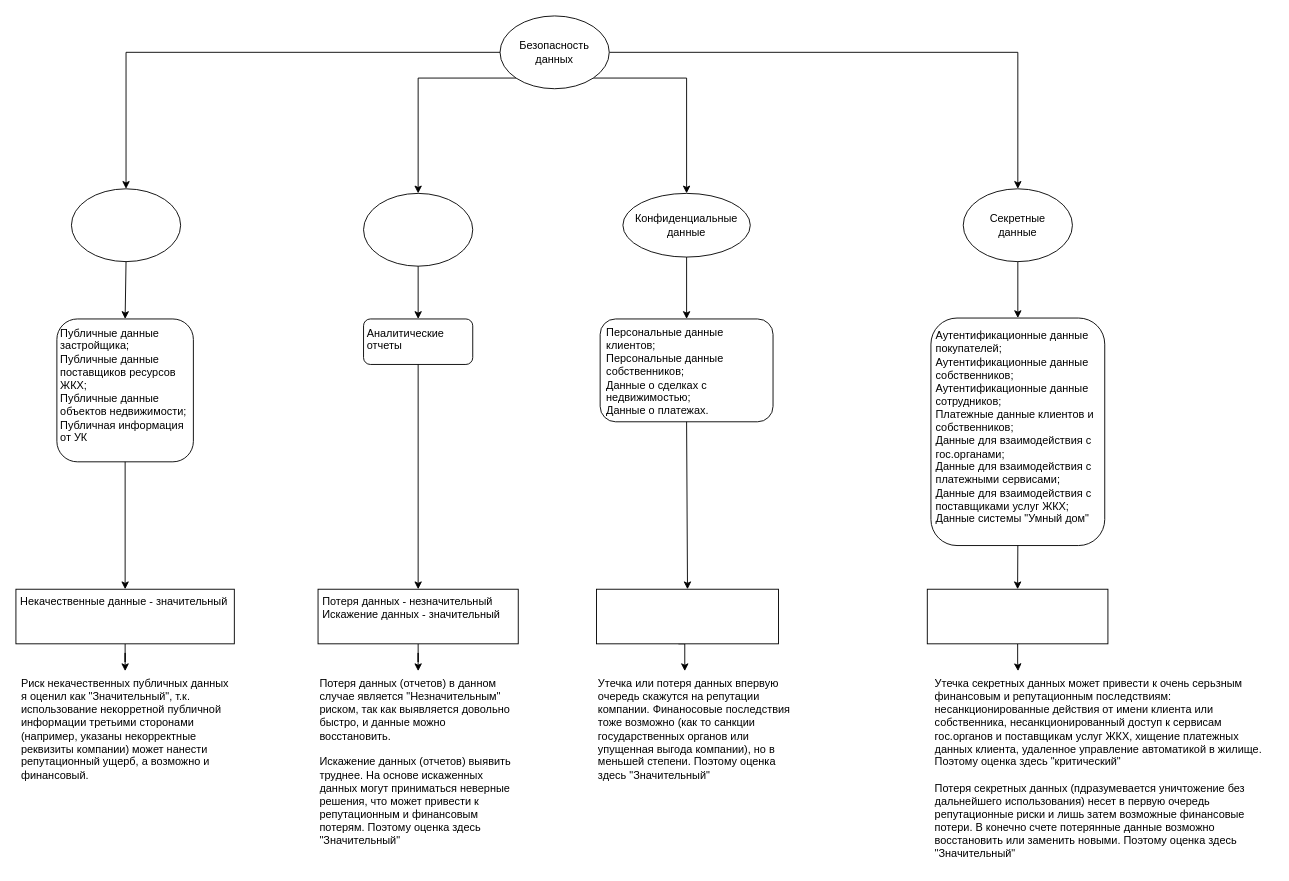
Image size: 1289x881. Some labels were removed from this diagram. Here are the shapes that lost their labels. From the top down, the box of each, then its label:
(71, 188, 181, 262): Публичные данные
(363, 192, 473, 266): Внутренние данные
(596, 588, 779, 644): Утечка данных - значительный Потеря данных - значительный
(926, 588, 1108, 644): Утечка данных - критический Потеря данных - значительный
